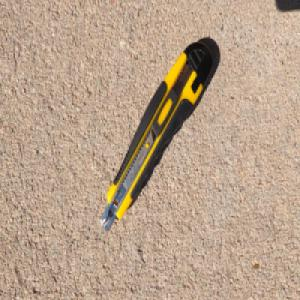Cutter: (100, 40, 214, 233)
